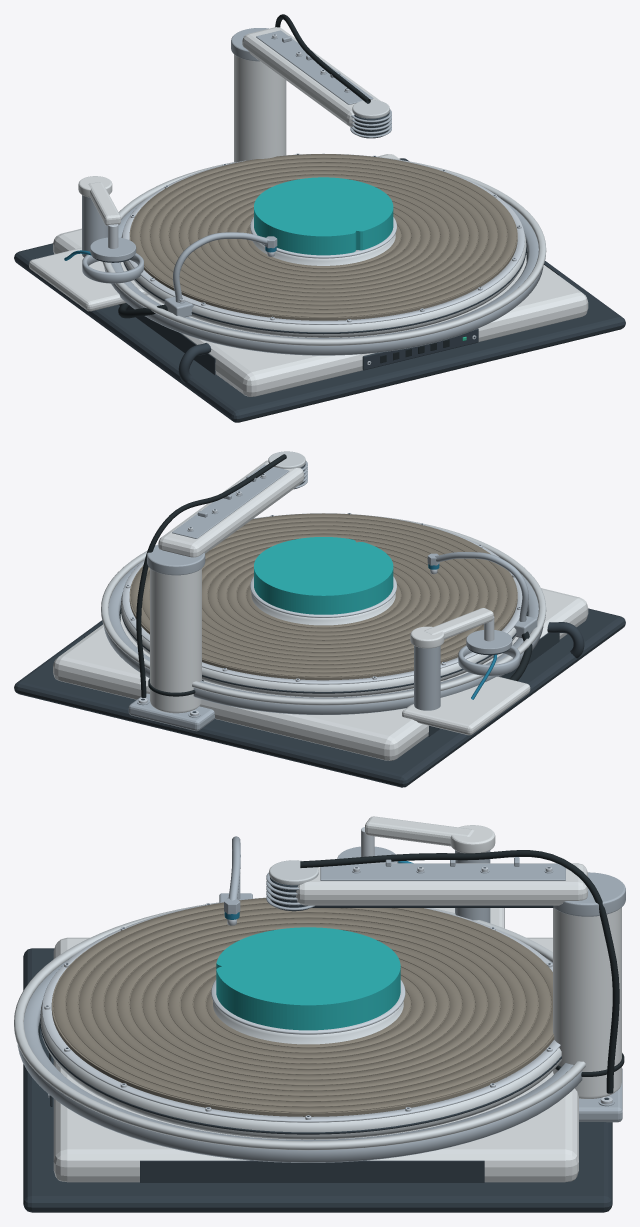
Rendered from cmp-polishing-cell.glb.
3 views of the same model, one above another, from view 1: azimuth 30°, elevation 25°; view 2: azimuth 150°, elevation 25°; view 3: azimuth 270°, elevation 25° (orthographic). The views are drawn at different scales.
Visible parts, largest first — view 1: CmpStatic_Mesh, CmpPadSurface_Mesh, CmpFilm_Mesh, CmpPadRotor_Mesh, CmpHeadCover_Mesh, CmpHeadAssembly_Mesh; view 2: CmpStatic_Mesh, CmpPadSurface_Mesh, CmpFilm_Mesh, CmpPadRotor_Mesh, CmpHeadCover_Mesh, CmpHeadAssembly_Mesh; view 3: CmpStatic_Mesh, CmpPadSurface_Mesh, CmpFilm_Mesh, CmpPadRotor_Mesh, CmpHeadCover_Mesh, CmpHeadAssembly_Mesh.
Boxes of the visible parts, <box> form: CmpStatic_Mesh: <box>14,14,625,422</box>; CmpPadSurface_Mesh: <box>129,154,517,320</box>; CmpFilm_Mesh: <box>254,177,393,255</box>; CmpPadRotor_Mesh: <box>121,153,526,337</box>; CmpHeadCover_Mesh: <box>251,233,395,265</box>; CmpHeadAssembly_Mesh: <box>250,217,396,258</box>; CmpStatic_Mesh: <box>14,451,625,787</box>; CmpPadSurface_Mesh: <box>129,513,517,680</box>; CmpFilm_Mesh: <box>254,537,393,614</box>; CmpPadRotor_Mesh: <box>120,513,522,697</box>; CmpHeadCover_Mesh: <box>251,592,395,625</box>; CmpHeadAssembly_Mesh: <box>250,576,396,617</box>; CmpStatic_Mesh: <box>14,816,625,1212</box>; CmpPadSurface_Mesh: <box>51,898,554,1116</box>; CmpFilm_Mesh: <box>216,927,400,1030</box>; CmpPadRotor_Mesh: <box>40,897,561,1139</box>; CmpHeadCover_Mesh: <box>213,1001,403,1044</box>; CmpHeadAssembly_Mesh: <box>211,979,405,1034</box>.
Size of the model in its own units: 7.97 by 3.95 by 7.63.
